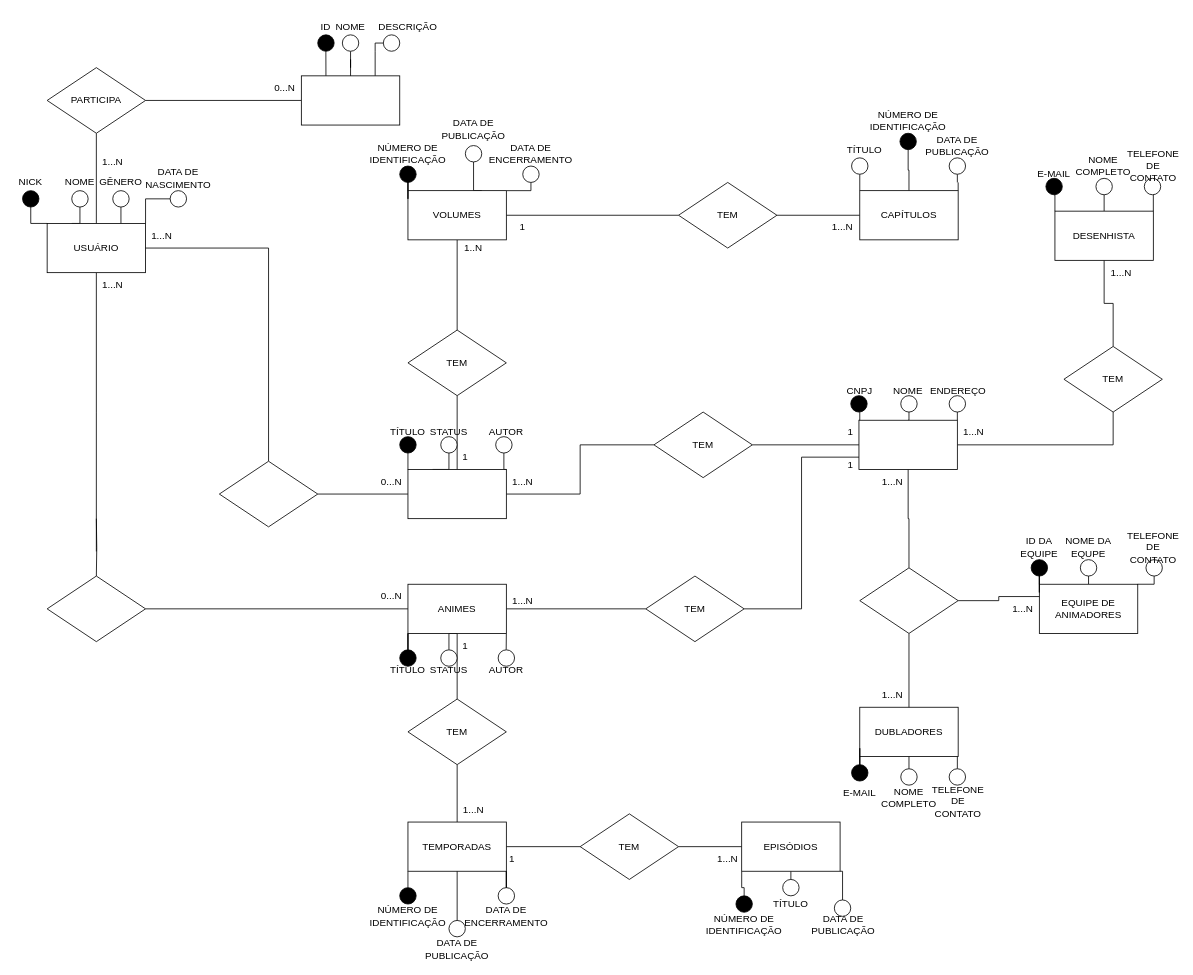
The diagram is 1193 pixels wide and 975 high, and some of its shapes have lost their labels. Each missing label, with the box of its shape:
ASSISTE: (46, 575, 146, 642)
CLUBES: (301, 75, 400, 125)
ESTÚDIO DE PUBLICAÇÃO: (858, 419, 957, 469)
LÊ: (219, 460, 318, 527)
MANGÁS: (407, 469, 506, 519)
TRABALHA EM CONJUNTO: (859, 567, 958, 633)
